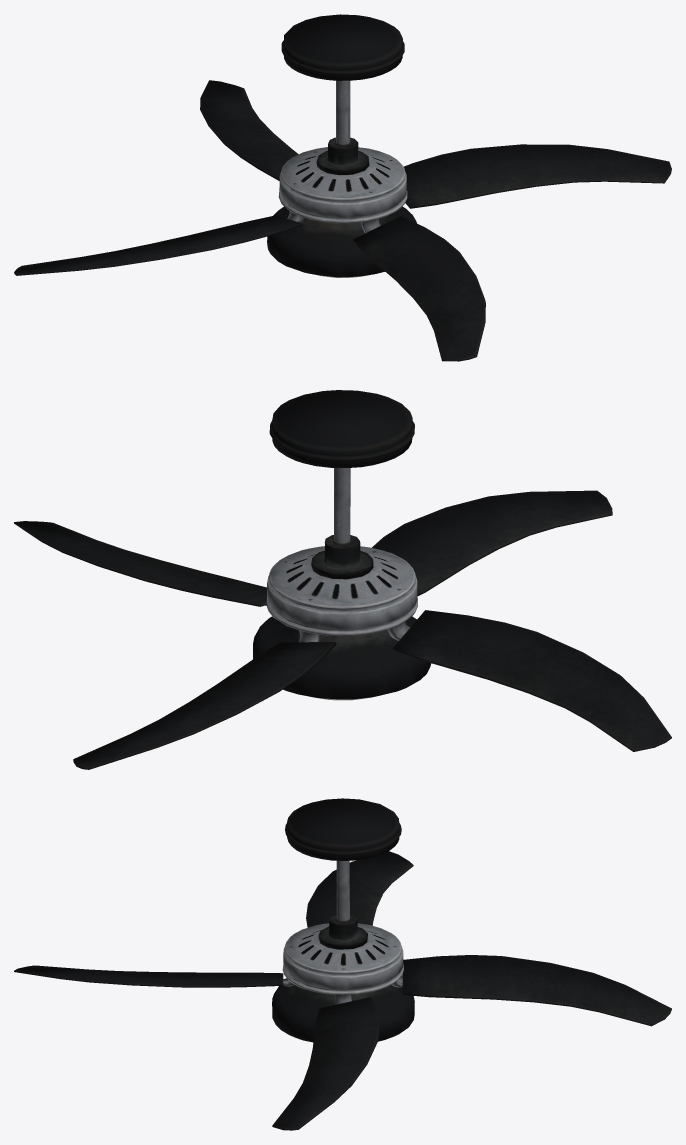
File: ceiling_fan.fbx
3 views of the same model, one above another, from view 1: azimuth 30°, elevation 25°; view 2: azimuth 150°, elevation 25°; view 3: azimuth 270°, elevation 25° (orthographic). The views are drawn at different scales.
Parts seen in each view (by area): view 1: ceiling_fan_LOD0; view 2: ceiling_fan_LOD0; view 3: ceiling_fan_LOD0.
Part boxes in pixels (x1=…): ceiling_fan_LOD0: x1=14, y1=14, x2=671, y2=361; ceiling_fan_LOD0: x1=14, y1=390, x2=671, y2=769; ceiling_fan_LOD0: x1=14, y1=798, x2=671, y2=1130.
Size of what is drawn, in the model's own units: 146 by 51.64 by 146.
Materials: 1 (1 with a texture image).
